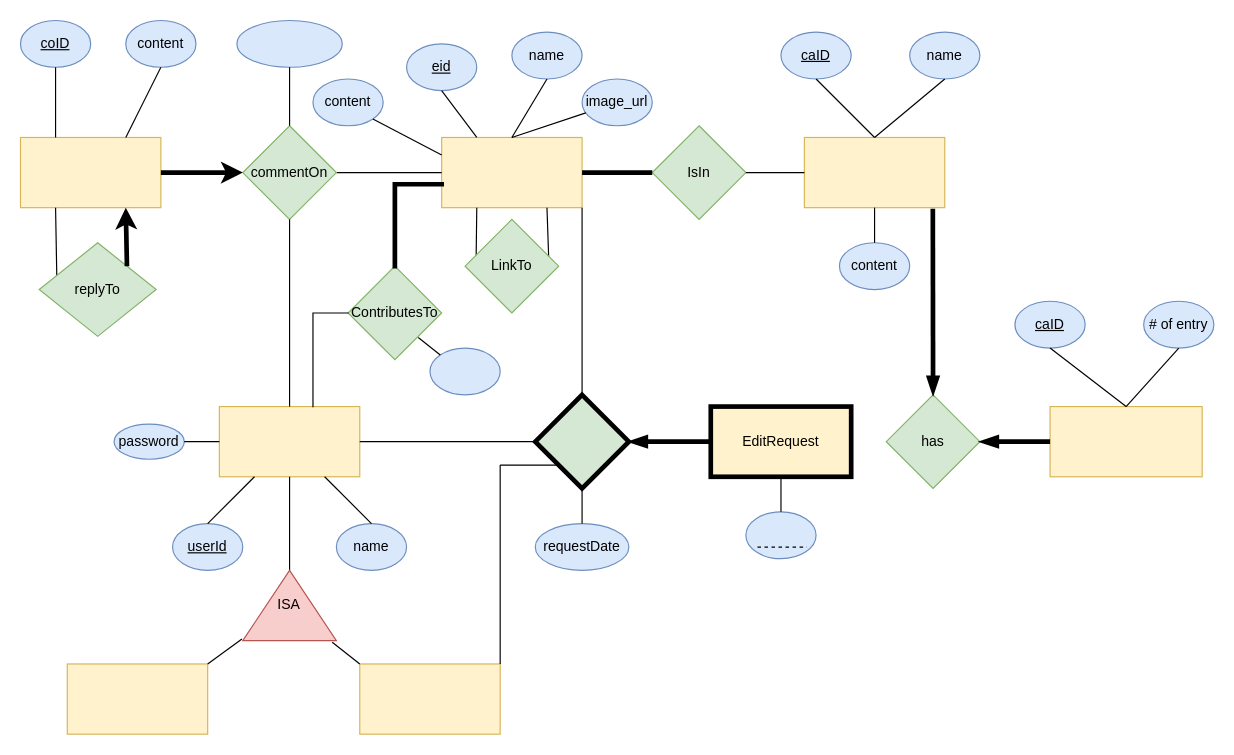
The diagram is 1234 pixels wide and 755 high, and some of its shapes have lost their labels. The shapes that lost their labels are listed below. From the top down, each one's box as (x1, y1, x2, y2) in pixels, then its label:
(236, 19, 342, 67): commentdate
(19, 136, 161, 208): Comments
(441, 136, 582, 208): Entry
(803, 136, 945, 208): Categories
(429, 347, 500, 395): conDate
(218, 405, 360, 477): Users
(532, 392, 631, 490): makes
(1049, 405, 1202, 477): CategoriesAmount
(745, 511, 816, 559): rid
(66, 663, 208, 734): VerifiedUsers
(359, 663, 500, 734): Admin
